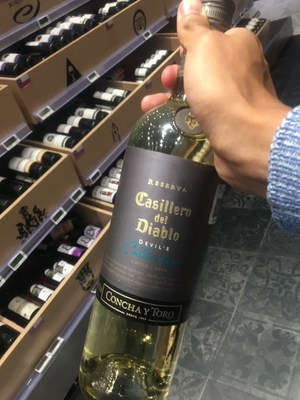casillero del diablo devils collection verde: (94, 78, 228, 400)
